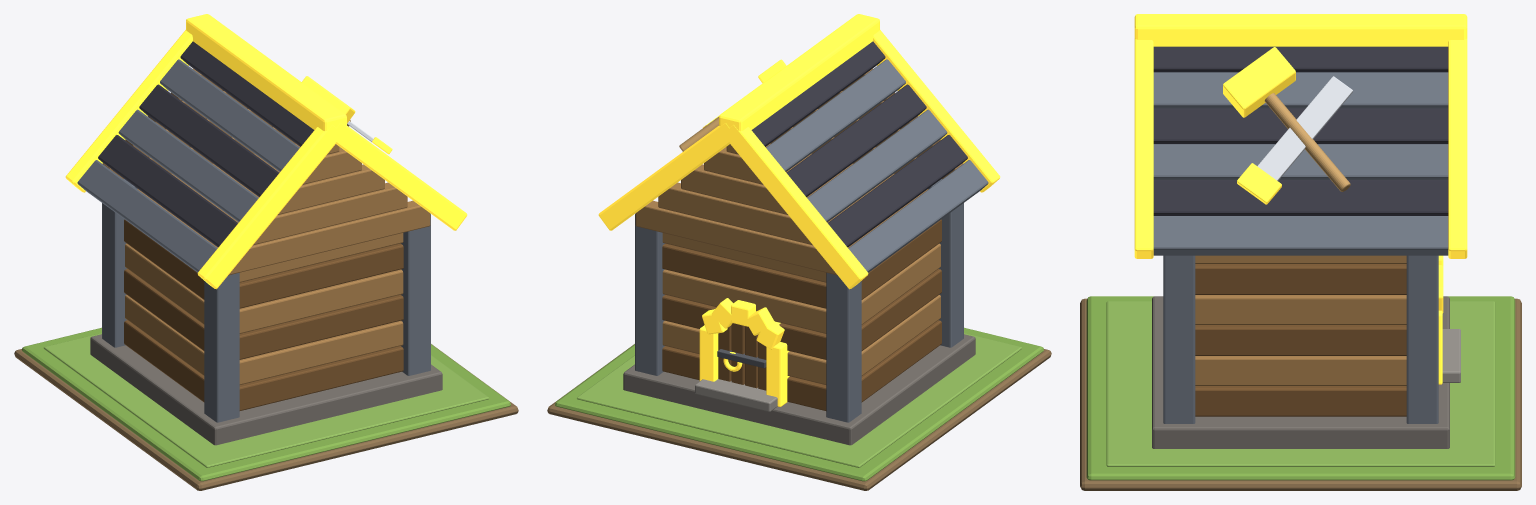
The model's file is builder_barracks_lv8.glb.
3 renders of one model, left to right at view 1: azimuth 30°, elevation 25°; view 2: azimuth 150°, elevation 25°; view 3: azimuth 270°, elevation 25°, orthographic. The views are drawn at different scales.
Parts seen in each view (by area): view 1: Base_Inner, BB_Foundation, Base_Grass, WallPlank_0, WallPlank_2, WallPlank_3, WallPlank_1, WallPlank_4, RidgeBeam, Base_Dirt, Bargeboard_-1_-1, BB_CornerPost_-1_-1 (+16 smaller); view 2: Base_Inner, BB_Foundation, Base_Grass, WallPlank_4, WallPlank_3, RidgeBeam, Base_Dirt, Bargeboard_1_-1, BB_CornerPost_-1_1, RoofSlope_-1_5, RoofSlope_-1_1, RoofSlope_-1_2 (+21 smaller); view 3: Base_Inner, Base_Grass, RoofSlope_1_5, BB_Foundation, RidgeBeam, RoofSlope_1_4, RoofSlope_1_2, RoofSlope_1_3, RoofSlope_1_1, Base_Dirt, RoofSlope_1_0, WallPlank_0 (+14 smaller).
Part boxes in pixels (left/top/right/bottom): Base_Inner: left=44, top=333, right=488, bottom=467; BB_Foundation: left=90, top=334, right=442, bottom=445; Base_Grass: left=22, top=327, right=510, bottom=481; WallPlank_0: left=124, top=320, right=403, bottom=410; WallPlank_2: left=124, top=269, right=403, bottom=359; WallPlank_3: left=125, top=243, right=403, bottom=333; WallPlank_1: left=125, top=295, right=403, bottom=384; WallPlank_4: left=124, top=219, right=403, bottom=308; RidgeBeam: left=186, top=14, right=346, bottom=130; Base_Dirt: left=14, top=344, right=518, bottom=490; Bargeboard_-1_-1: left=197, top=125, right=342, bottom=289; BB_CornerPost_-1_-1: left=204, top=272, right=239, bottom=422; Base_Inner: left=577, top=333, right=1021, bottom=467; BB_Foundation: left=623, top=334, right=975, bottom=445; Base_Grass: left=555, top=327, right=1043, bottom=481; WallPlank_4: left=662, top=219, right=941, bottom=308; WallPlank_3: left=662, top=243, right=940, bottom=333; RidgeBeam: left=719, top=14, right=879, bottom=130; Base_Dirt: left=547, top=344, right=1051, bottom=490; Bargeboard_1_-1: left=723, top=125, right=868, bottom=289; BB_CornerPost_-1_1: left=826, top=272, right=861, bottom=422; RoofSlope_-1_5: left=848, top=160, right=988, bottom=272; RoofSlope_-1_1: left=766, top=59, right=905, bottom=171; RoofSlope_-1_2: left=786, top=84, right=926, bottom=197; Base_Inner: left=1106, top=301, right=1495, bottom=466; Base_Grass: left=1086, top=296, right=1515, bottom=480; RoofSlope_1_5: left=1153, top=216, right=1448, bottom=255; BB_Foundation: left=1152, top=296, right=1449, bottom=448; RidgeBeam: left=1134, top=14, right=1467, bottom=46; RoofSlope_1_4: left=1153, top=180, right=1448, bottom=215; RoofSlope_1_2: left=1153, top=108, right=1448, bottom=143; RoofSlope_1_3: left=1153, top=144, right=1448, bottom=179; RoofSlope_1_1: left=1153, top=72, right=1448, bottom=108; Base_Dirt: left=1080, top=298, right=1521, bottom=490; RoofSlope_1_0: left=1153, top=46, right=1448, bottom=72; WallPlank_0: left=1195, top=386, right=1406, bottom=416.
Bounding box in the file's own units: 2.76 × 2.62 × 2.76.
